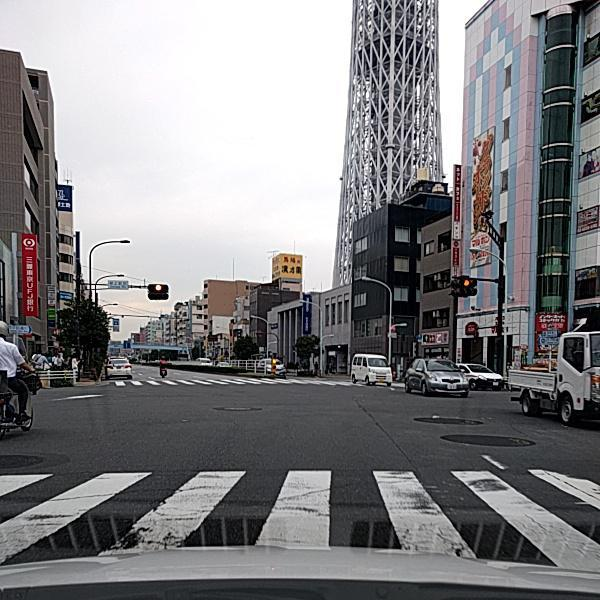D00: (348, 393, 417, 472)
D43: (2, 464, 599, 568)
D50: (439, 433, 543, 445), (415, 412, 484, 428), (0, 451, 43, 469)
